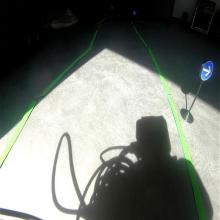right: (200, 59, 214, 82)
